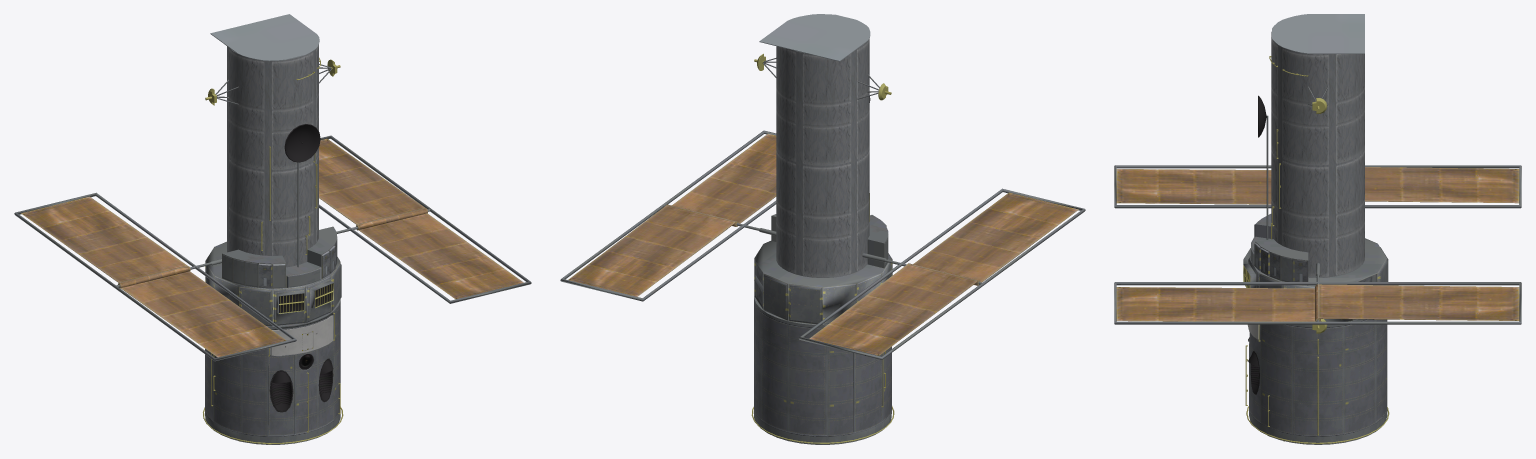
File: hubble_space_telescope.glb
3 views of the same model, side by side, from view 1: azimuth 30°, elevation 25°; view 2: azimuth 150°, elevation 25°; view 3: azimuth 270°, elevation 25° (orthographic).
Visible parts, largest first — view 1: hst; view 2: hst; view 3: hst.
Part boxes in pixels (left/top/right/bottom): hst: left=14, top=14, right=531, bottom=444; hst: left=560, top=14, right=1085, bottom=444; hst: left=1114, top=14, right=1521, bottom=444.
Size of the model in its own units: 458 by 525 by 501.
Materials: 5 (5 with a texture image).
